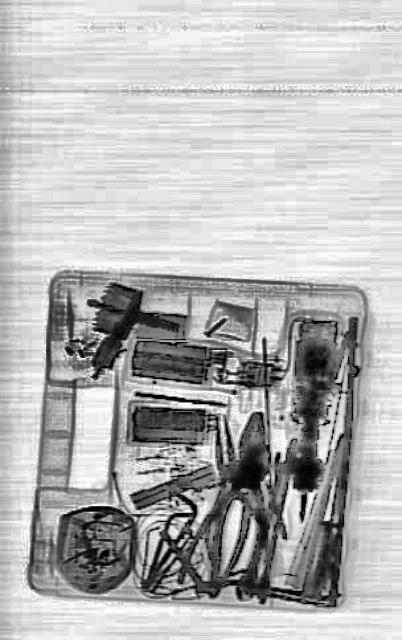Pliers: (188, 407, 272, 587), (209, 403, 283, 589)
